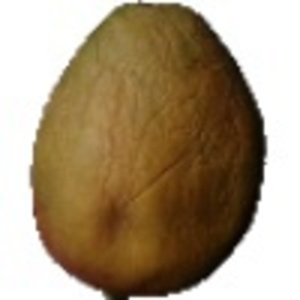mamão: (25, 1, 267, 291)
